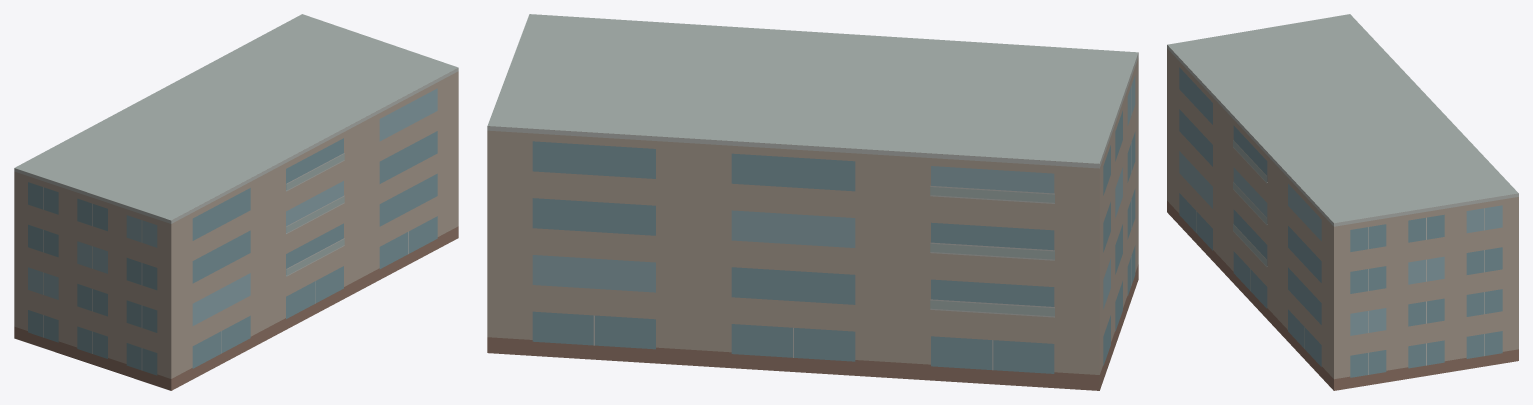
The model's file is survey-upis-32855831.glb.
The picture shows the model from 3 angles, left to right: view 1: azimuth 30°, elevation 25°; view 2: azimuth 150°, elevation 25°; view 3: azimuth 270°, elevation 25°; orthographic projection. The views are drawn at different scales.
Visible parts, largest first — view 1: survey-upis-32855831.tmp; view 2: survey-upis-32855831.tmp; view 3: survey-upis-32855831.tmp.
Boxes of the visible parts, x1,y1,x2,y2 form: survey-upis-32855831.tmp: [14, 14, 458, 390]; survey-upis-32855831.tmp: [487, 14, 1138, 390]; survey-upis-32855831.tmp: [1167, 14, 1518, 390].
Bounding box in the file's own units: 31.61 × 11.8 × 22.45.
